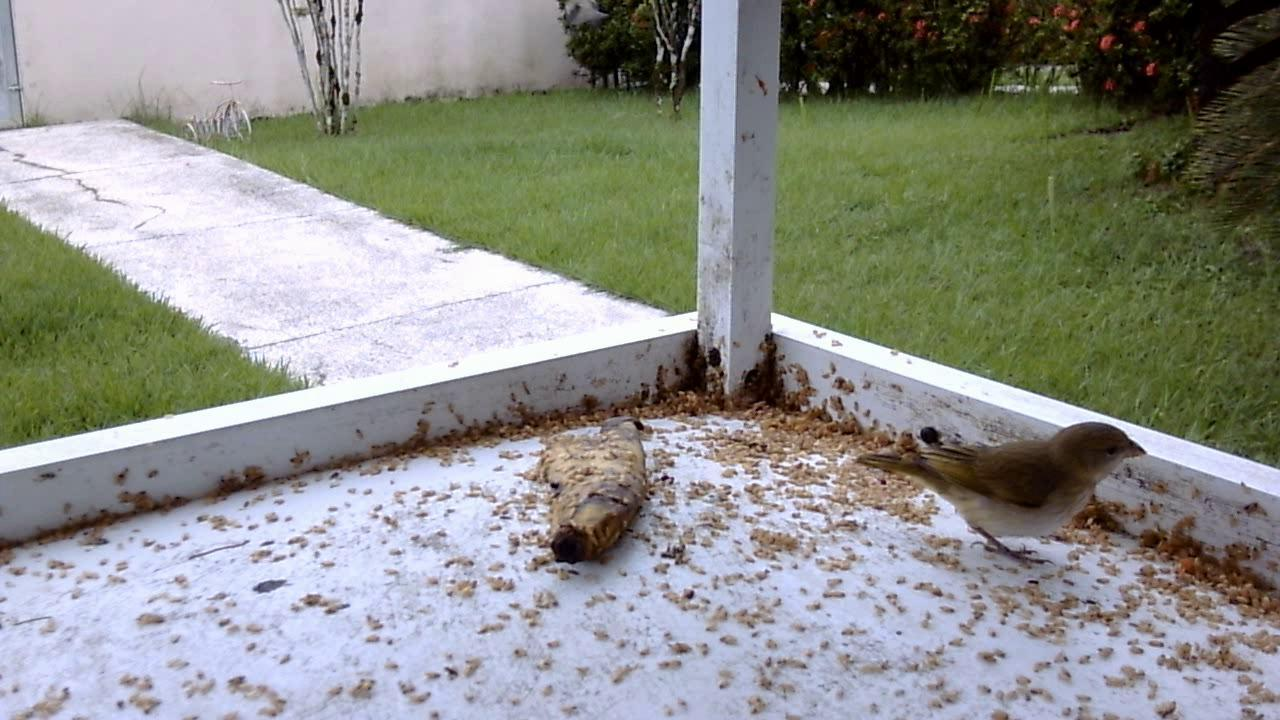canario_do_amazonas: (848, 412, 1149, 575)
